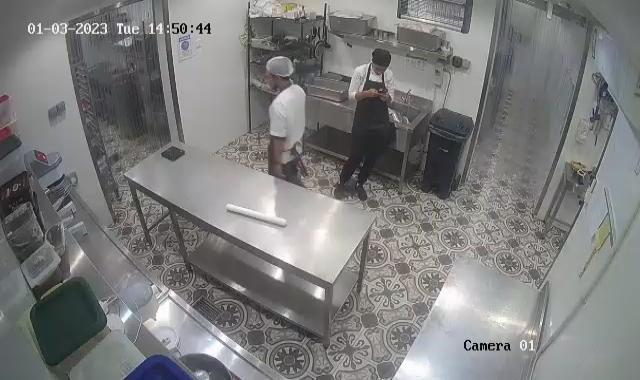hairnet: (265, 54, 294, 82)
no_hairnet: (369, 48, 391, 73)
